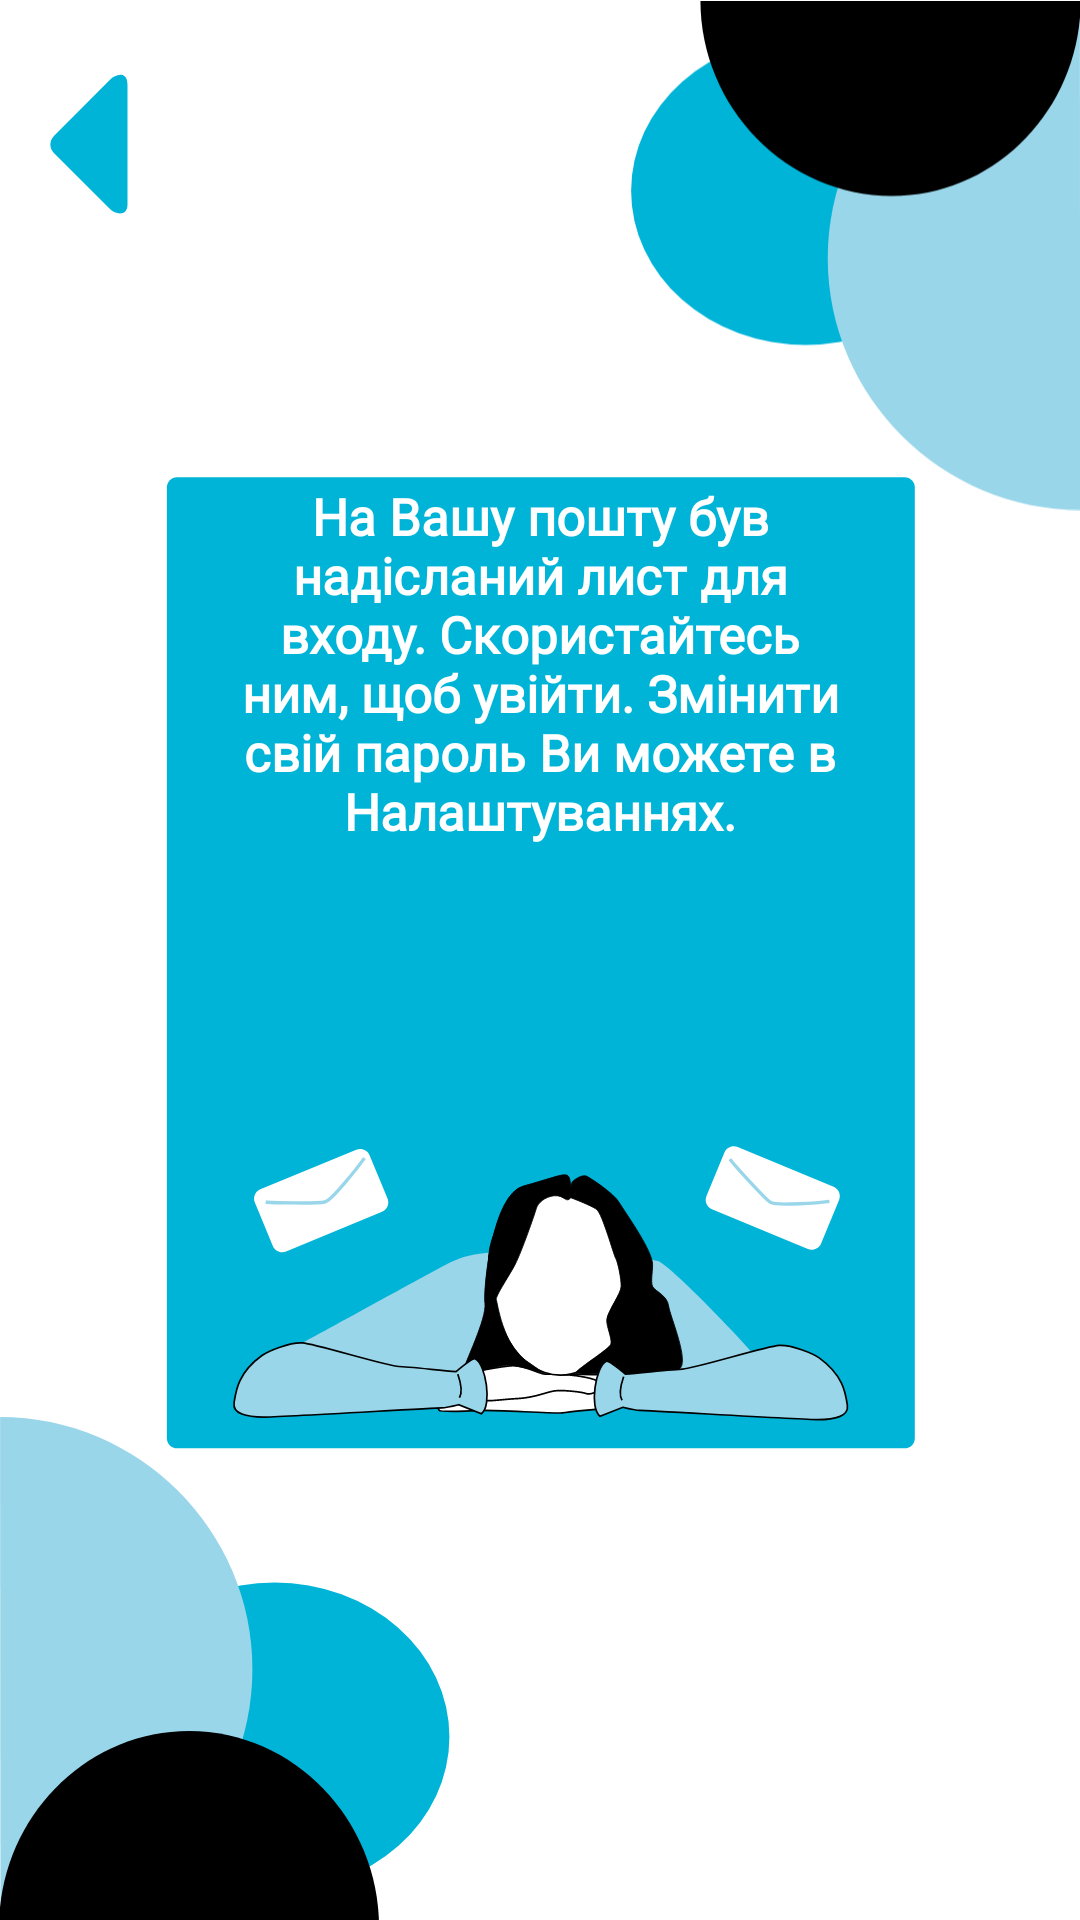

Where icons sit on this 1080px×1920px app screen, as BBox(x1, y1, x2, y2):
back: BBox(50, 74, 128, 214)
